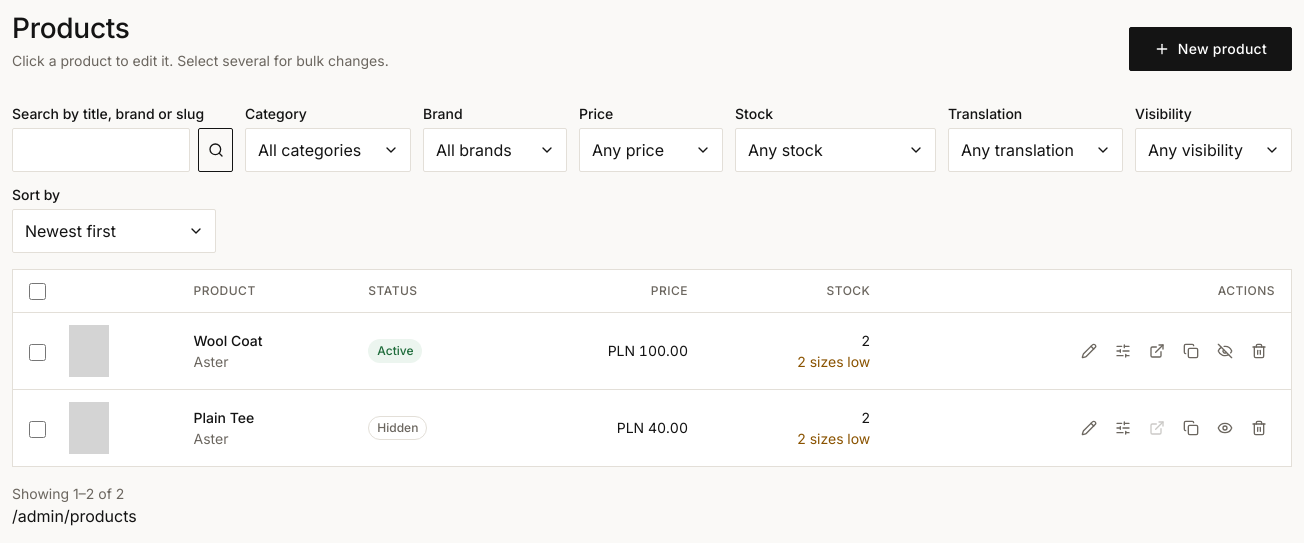
Test case: ProductsList › offers actions on every row and opens the editor from the row
Expected: the button named "Hide Wool Coat from the shop" is enabled, [1209,335,1241,367]
Expected: the button named "Show Plain Tee in the shop" is enabled, [1209,412,1241,444]
Click the cell "Active" at (431, 351), box [352,312,510,389]
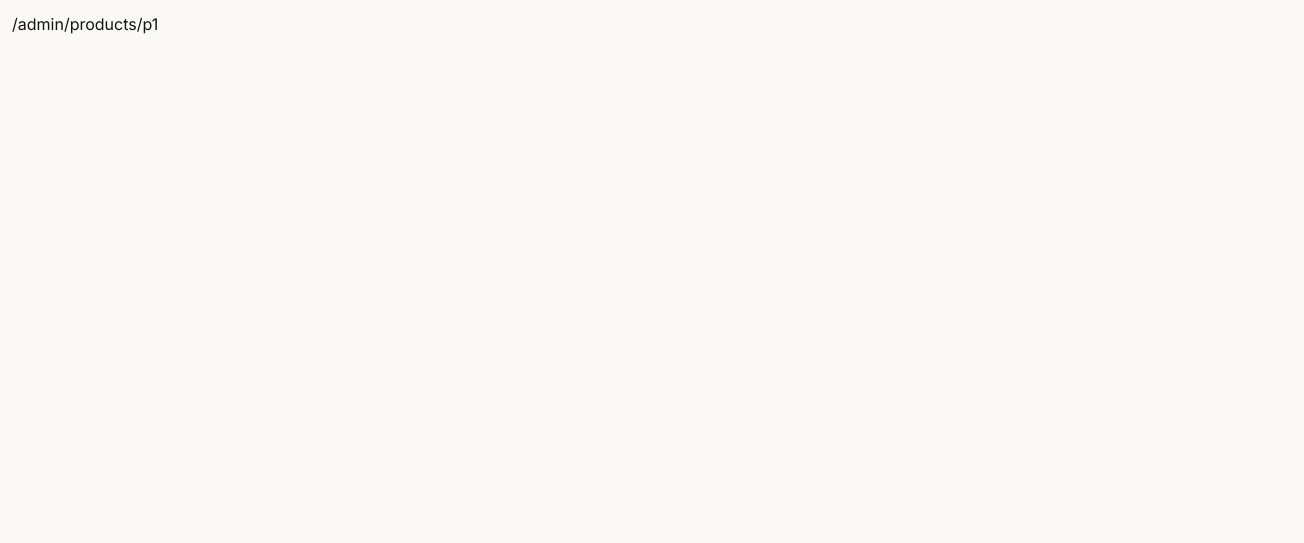
Now the text with test id "path" reads "/admin/products/p1", box [12,14,158,34]
